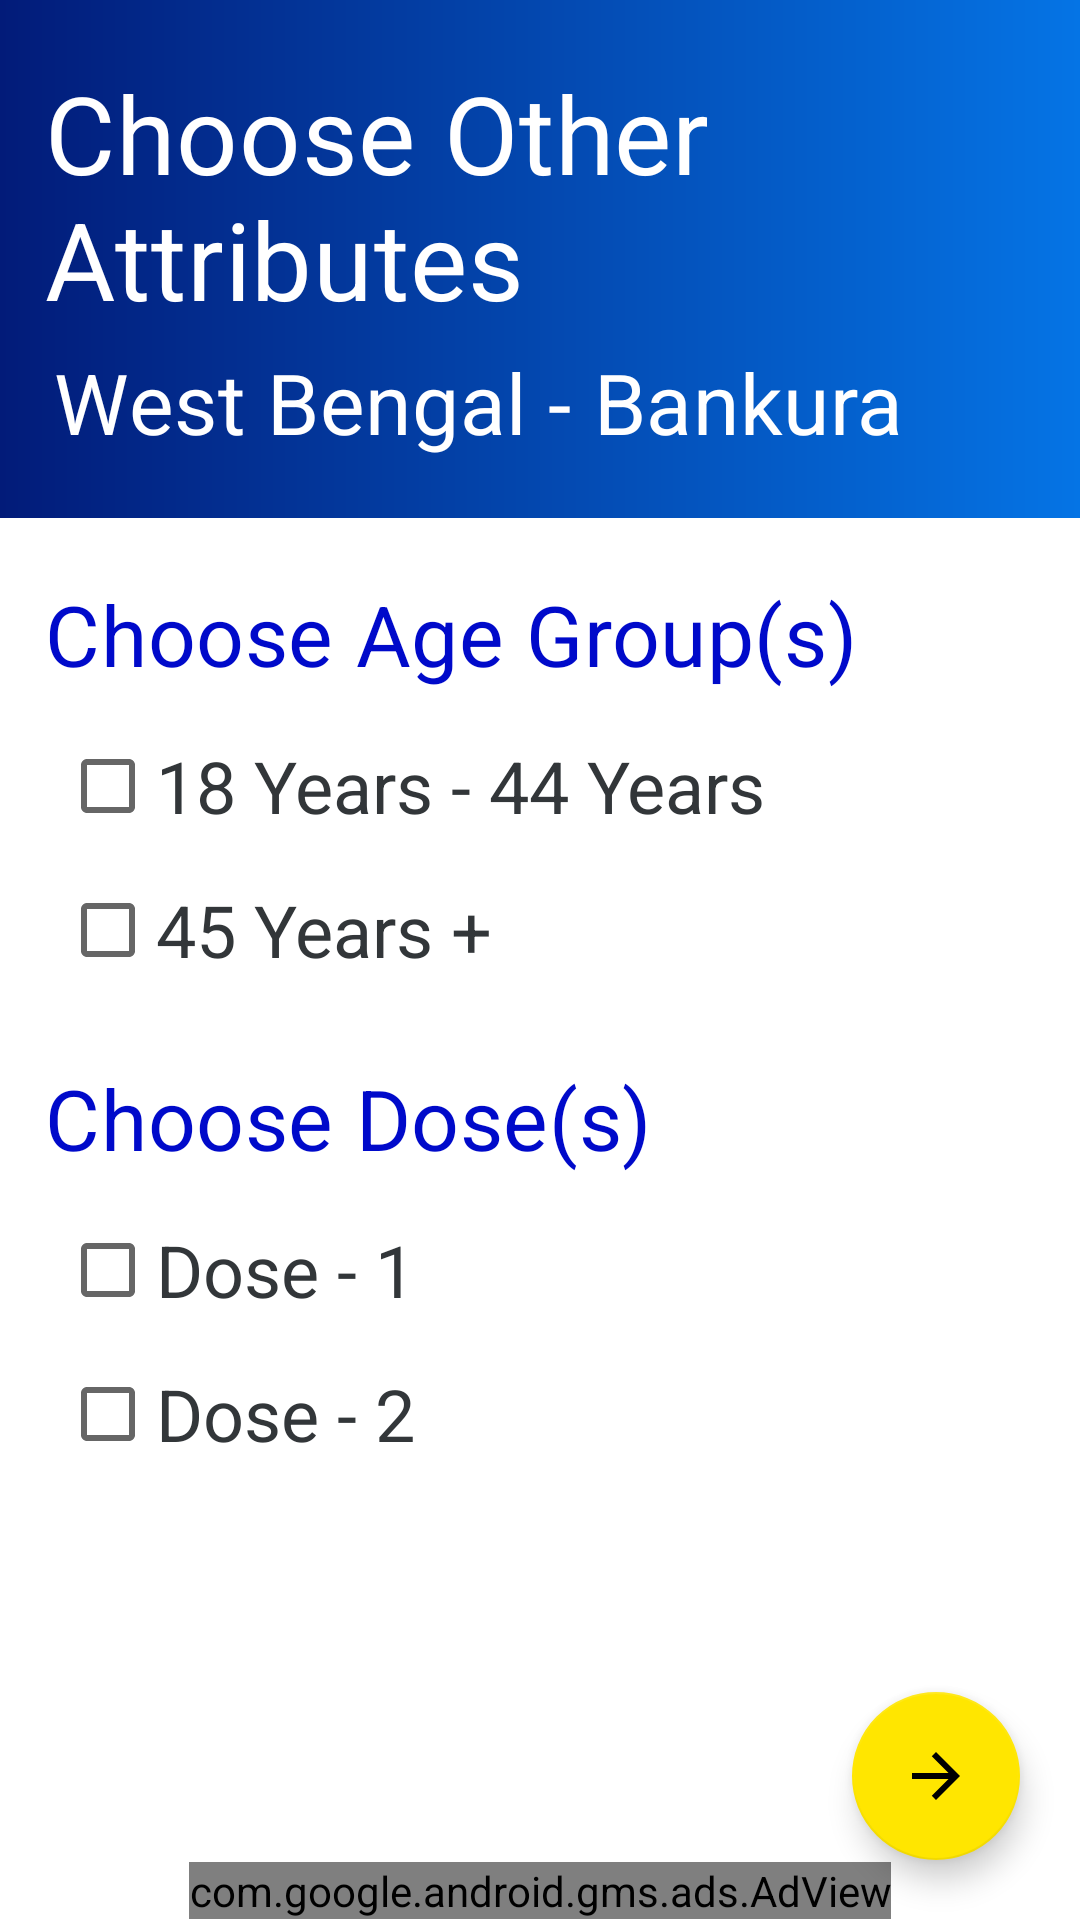

Icon bounding boxes for this 1080 × 1920 phone screenshot, format (x1, y1, x2, y2):
arrow forward: (852, 1692, 1020, 1860)
